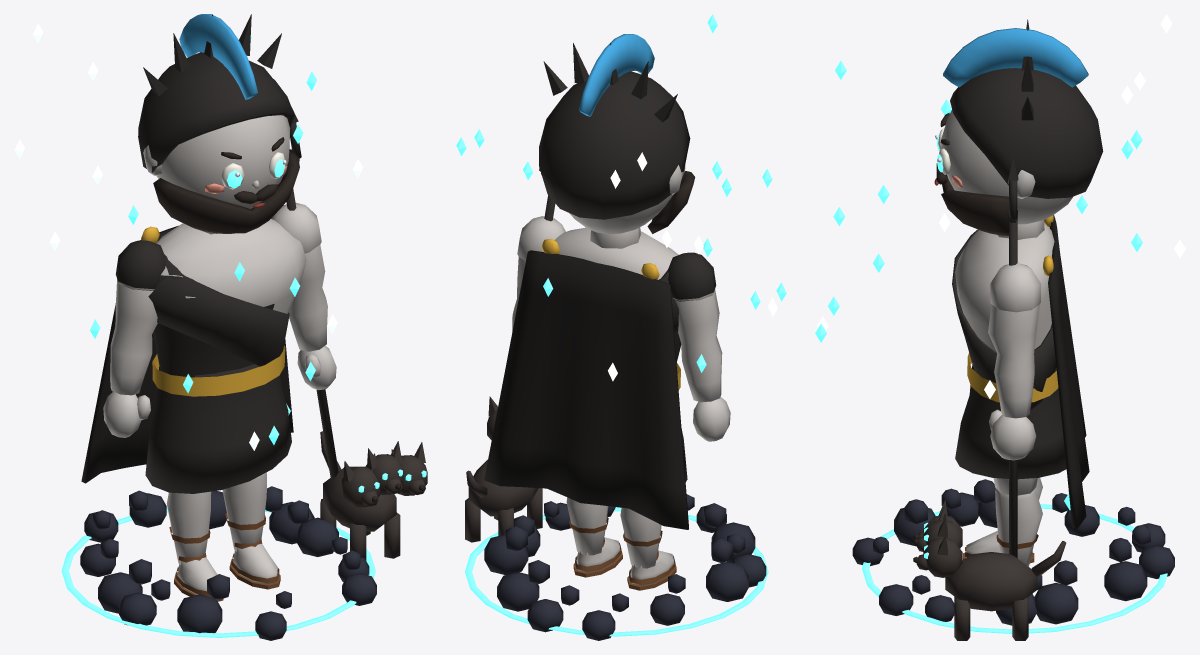
File: hades.glb
3 views of the same model, side by side, from view 1: azimuth 30°, elevation 25°; view 2: azimuth 150°, elevation 25°; view 3: azimuth 270°, elevation 25° (orthographic). The views are drawn at different scales.
Parts seen in each view (by area): view 1: rumpf, vfx_schatten, kopfschmuck, huefte, armL, kopf, begleiter, armR, umhang, bart, knieR, knieL (+4 smaller); view 2: umhang, kopfschmuck, vfx_schatten, armL, begleiter, rumpf, knieL, knieR, kopf, armR, bart, vfx_funken_0 (+2 smaller); view 3: kopfschmuck, vfx_schatten, rumpf, begleiter, armR, huefte, umhang, kopf, bart, knieR, itemR, vfx_funken_0 (+3 smaller).
Part boxes in pixels (bbox=[...]): rumpf: bbox=[148, 219, 306, 396]; vfx_schatten: bbox=[61, 486, 376, 640]; kopfschmuck: bbox=[138, 14, 294, 172]; huefte: bbox=[145, 364, 291, 493]; armL: bbox=[103, 240, 165, 437]; kopf: bbox=[143, 115, 290, 234]; begleiter: bbox=[320, 431, 427, 560]; armR: bbox=[271, 203, 336, 389]; umhang: bbox=[81, 218, 293, 483]; bart: bbox=[153, 149, 299, 233]; knieR: bbox=[222, 472, 280, 589]; knieL: bbox=[166, 491, 223, 601]; umhang: bbox=[484, 238, 688, 529]; kopfschmuck: bbox=[539, 34, 690, 219]; vfx_schatten: bbox=[465, 494, 768, 640]; armL: bbox=[667, 252, 730, 441]; begleiter: bbox=[465, 396, 542, 542]; rumpf: bbox=[555, 227, 681, 389]; knieL: bbox=[620, 507, 676, 590]; knieR: bbox=[566, 497, 622, 577]; kopf: bbox=[569, 165, 685, 248]; armR: bbox=[512, 216, 565, 331]; bart: bbox=[647, 171, 695, 233]; vfx_funken_0: bbox=[456, 137, 777, 381]; kopfschmuck: bbox=[943, 19, 1103, 198]; vfx_schatten: bbox=[852, 479, 1174, 633]; rumpf: bbox=[952, 222, 1058, 410]; begleiter: bbox=[913, 499, 1066, 640]; armR: bbox=[988, 263, 1040, 460]; huefte: bbox=[955, 364, 1066, 479]; umhang: bbox=[1043, 215, 1089, 528]; kopf: bbox=[941, 109, 1073, 239]; bart: bbox=[936, 163, 1008, 235]; knieR: bbox=[995, 488, 1042, 566]; itemR: bbox=[1008, 156, 1018, 558]; vfx_funken_0: bbox=[817, 14, 1185, 330].
Bounding box in the file's own units: 1.48 × 2.5 × 1.53.
